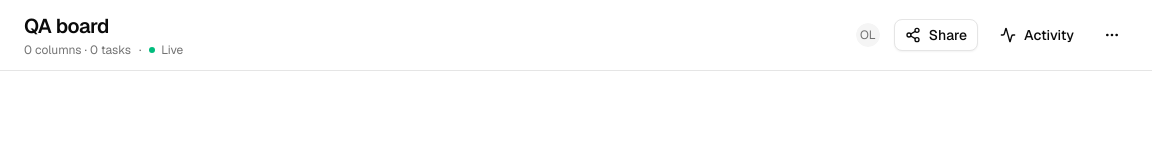
it: BoardHeader › cancels with Escape without saving
This screenshot has width=1152, height=160.
Click the button "QA board" at [66, 26], box [24,12,109,40]
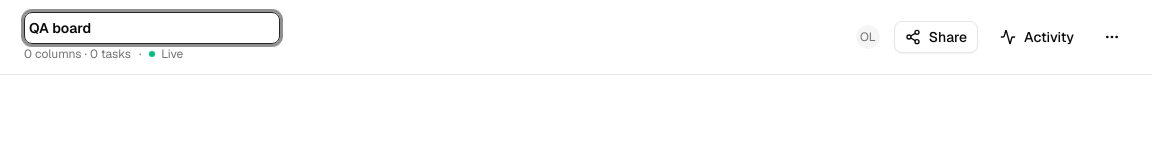
Type " draft" into the field at [152, 28], box [24,12,280,44]
Then press Escape
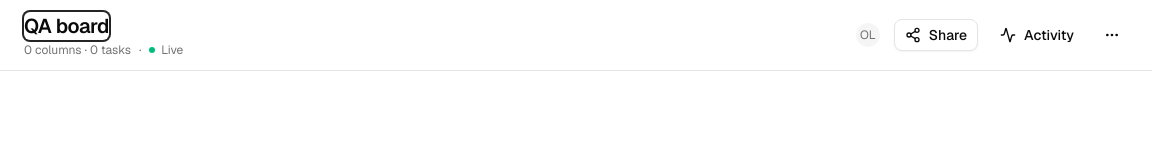
Expected: the heading reads "QA board", [24,12,109,40]
